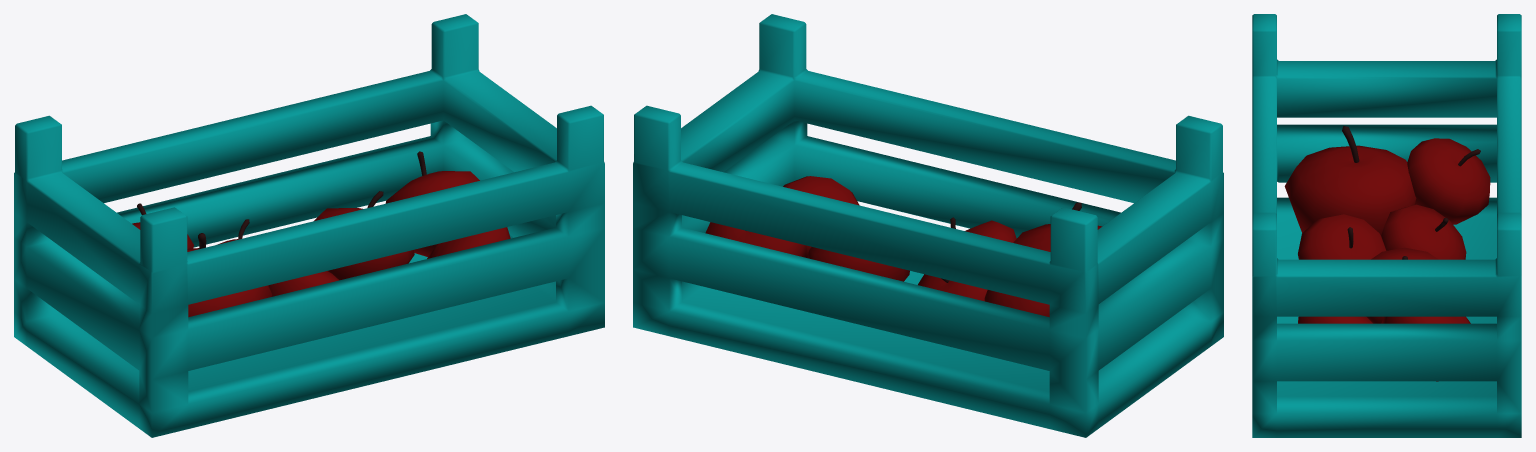
File: koszykJablek.FBX
3 views of the same model, side by side, from view 1: azimuth 30°, elevation 25°; view 2: azimuth 150°, elevation 25°; view 3: azimuth 270°, elevation 25° (orthographic). The views are drawn at different scales.
Visible parts, largest first — view 1: Box001, Sphere007, Sphere001, Sphere005, Sphere003, Sphere004; view 2: Box001, Sphere007, Sphere001, Sphere003, Sphere002, Sphere006, Sphere005, Sphere004; view 3: Box001, Sphere005, Sphere006, Sphere002, Sphere004, Sphere001, Sphere007, Sphere003.
Part boxes in pixels (x1,y1,x2,y2): Box001: (14, 14, 604, 437); Sphere007: (385, 151, 479, 256); Sphere001: (314, 191, 414, 280); Sphere005: (187, 233, 272, 317); Sphere003: (427, 227, 510, 258); Sphere004: (268, 271, 338, 296); Box001: (633, 14, 1223, 437); Sphere007: (705, 222, 806, 257); Sphere001: (807, 247, 909, 281); Sphere003: (783, 176, 859, 257); Sphere002: (918, 274, 987, 301); Sphere006: (984, 290, 1049, 317); Sphere005: (1013, 202, 1102, 251); Sphere004: (950, 217, 1016, 242); Box001: (1252, 14, 1521, 437); Sphere005: (1284, 126, 1416, 235); Sphere006: (1407, 138, 1490, 224); Sphere002: (1381, 204, 1466, 259); Sphere004: (1298, 214, 1386, 259); Sphere001: (1366, 247, 1438, 323); Sphere007: (1381, 316, 1470, 381); Sphere003: (1298, 316, 1372, 323).
Size of the model in its own units: 56.9 by 25.65 by 30.
